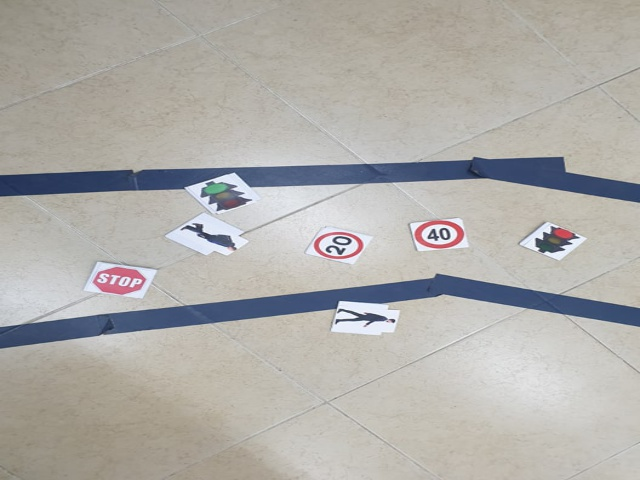Green: (196, 179, 253, 208)
Limit 20: (313, 232, 364, 262)
Limit 40: (411, 223, 466, 248)
Person: (181, 225, 237, 255), (337, 305, 396, 333)
Red: (533, 225, 579, 259)
Stop: (97, 264, 147, 296)
